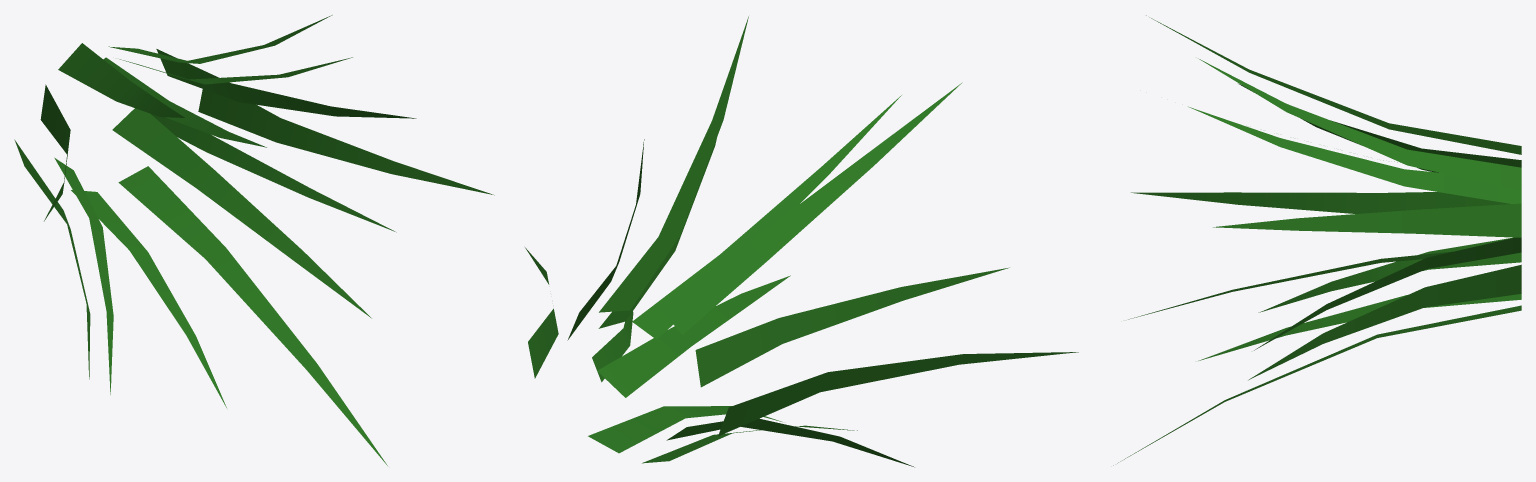
The model's file is SM_GrassBlade.obj.
The picture shows the model from 3 angles, left to right: view 1: azimuth 30°, elevation 25°; view 2: azimuth 150°, elevation 25°; view 3: azimuth 270°, elevation 25°; orthographic projection. The views are drawn at different scales.
Parts seen in each view (by area): view 1: SM_GrassBlade; view 2: SM_GrassBlade; view 3: SM_GrassBlade.
Part boxes in pixels (x1,y1,x2,y2): SM_GrassBlade: (14, 15, 494, 465); SM_GrassBlade: (525, 16, 1078, 467); SM_GrassBlade: (1113, 15, 1521, 465).
Size of the model in its own units: 72.76 by 62.98 by 57.85.
